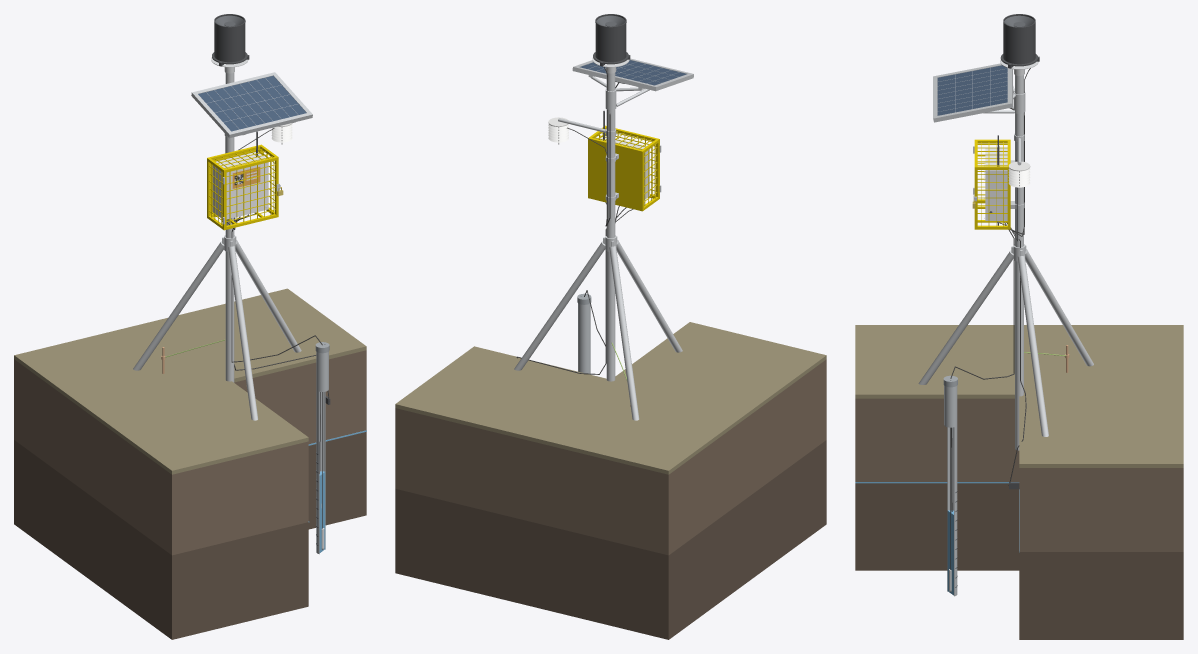
Rendered from node_sensor.glb.
3 views of the same model, side by side, from view 1: azimuth 30°, elevation 25°; view 2: azimuth 150°, elevation 25°; view 3: azimuth 270°, elevation 25° (orthographic). The views are drawn at different scales.
Visible parts, largest first — view 1: Tanah - lapisan serasah, Tanah gambut (zona tak jenuh), Tanah gambut jenuh air, Panel surya - sel mono, Jaring kerangkeng, Kerangkeng besi (kuning), Sumur pantau pipa PVC 3in, Box ABS IP65 - tutup, Tiang utama galvanis 2in, Panel surya - frame aluminium, Rain gauge tipping bucket, Kaki tripod 3 (+6 smaller); view 2: Tanah gambut jenuh air, Tanah gambut (zona tak jenuh), Tanah - lapisan serasah, Kerangkeng besi (kuning), Tiang utama galvanis 2in, Rain gauge tipping bucket, Kaki tripod 2, Panel surya - sel mono, Kaki tripod 1, Kabel sensor & daya, Kaki tripod 3, Panel surya - frame aluminium (+2 smaller); view 3: Tanah - lapisan serasah, Tanah gambut jenuh air, Tanah gambut (zona tak jenuh), Panel surya - sel mono, Tiang utama galvanis 2in, Sumur pantau pipa PVC 3in, Rain gauge tipping bucket, Kaki tripod 1, Box ABS IP65 - badan, Kaki tripod 3, Kabel sensor & daya, Panel surya - frame aluminium (+6 smaller).
Boxes of the visible parts, box(x1,y1,x2,y2) form: Tanah - lapisan serasah: box(14, 288, 366, 474); Tanah gambut (zona tak jenuh): box(14, 350, 366, 555); Tanah gambut jenuh air: box(14, 432, 366, 639); Panel surya - sel mono: box(198, 75, 306, 131); Jaring kerangkeng: box(209, 148, 275, 225); Kerangkeng besi (kuning): box(207, 144, 278, 230); Sumur pantau pipa PVC 3in: box(316, 351, 328, 554); Box ABS IP65 - tutup: box(226, 162, 268, 219); Tiang utama galvanis 2in: box(225, 73, 234, 382); Panel surya - frame aluminium: box(191, 72, 312, 138); Rain gauge tipping bucket: box(212, 14, 249, 66); Kaki tripod 3: box(228, 246, 258, 420); Tanah gambut jenuh air: box(395, 440, 826, 639); Tanah gambut (zona tak jenuh): box(395, 359, 826, 555); Tanah - lapisan serasah: box(395, 322, 826, 474); Kerangkeng besi (kuning): box(588, 125, 659, 211); Tiang utama galvanis 2in: box(606, 73, 615, 381); Rain gauge tipping bucket: box(593, 14, 630, 66); Kaki tripod 2: box(609, 246, 639, 420); Panel surya - sel mono: box(580, 60, 686, 85); Kaki tripod 1: box(514, 241, 605, 370); Kabel sensor & daya: box(516, 67, 633, 374); Kaki tripod 3: box(616, 240, 682, 352); Panel surya - frame aluminium: box(572, 58, 693, 91); Tanah - lapisan serasah: box(855, 325, 1183, 467); Tanah gambut jenuh air: box(855, 483, 1183, 639); Tanah gambut (zona tak jenuh): box(855, 398, 1183, 551); Panel surya - sel mono: box(937, 65, 1007, 115); Tiang utama galvanis 2in: box(1015, 75, 1023, 450); Sumur pantau pipa PVC 3in: box(944, 385, 957, 596); Rain gauge tipping bucket: box(1000, 14, 1039, 68); Kaki tripod 1: box(1017, 255, 1048, 436); Box ABS IP65 - badan: box(987, 148, 1007, 220); Kaki tripod 3: box(918, 250, 1013, 384); Kabel sensor & daya: box(950, 68, 1030, 569); Panel surya - frame aluminium: box(933, 63, 1012, 122).
Bounding box in the file's own units: 2.2 × 4.06 × 2.2.
